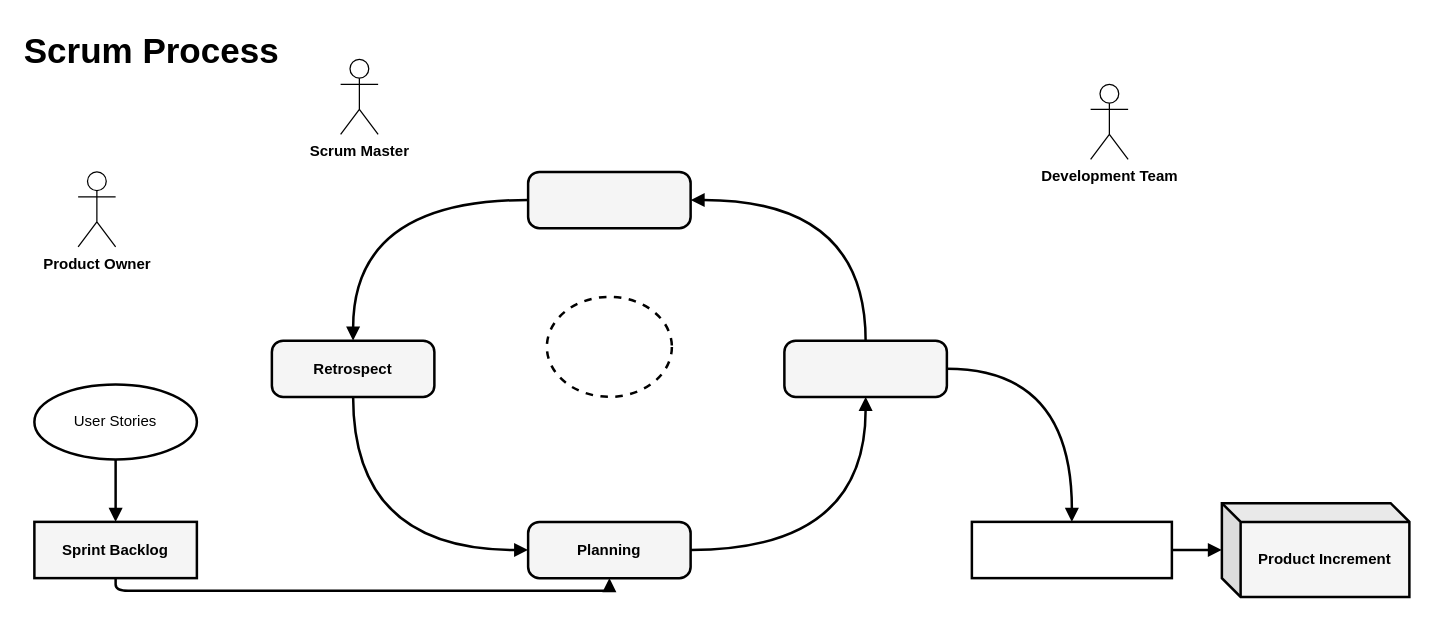
The diagram is 1431 pixels wide and 623 high, and some of its shapes have lost their labels. Each missing label, with the centre of its shape:
"Definition of Done" belongs at [1071,549].
"Implementation (24 hours)" belongs at [865,368].
"Review" belongs at [608,199].
"Sprint 2-4 weeks" belongs at [608,346].
